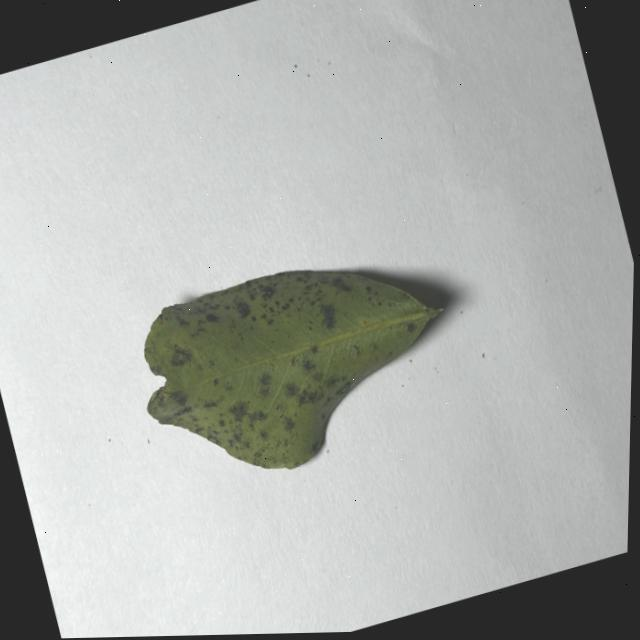sooty_mold: (143, 271, 436, 468)
